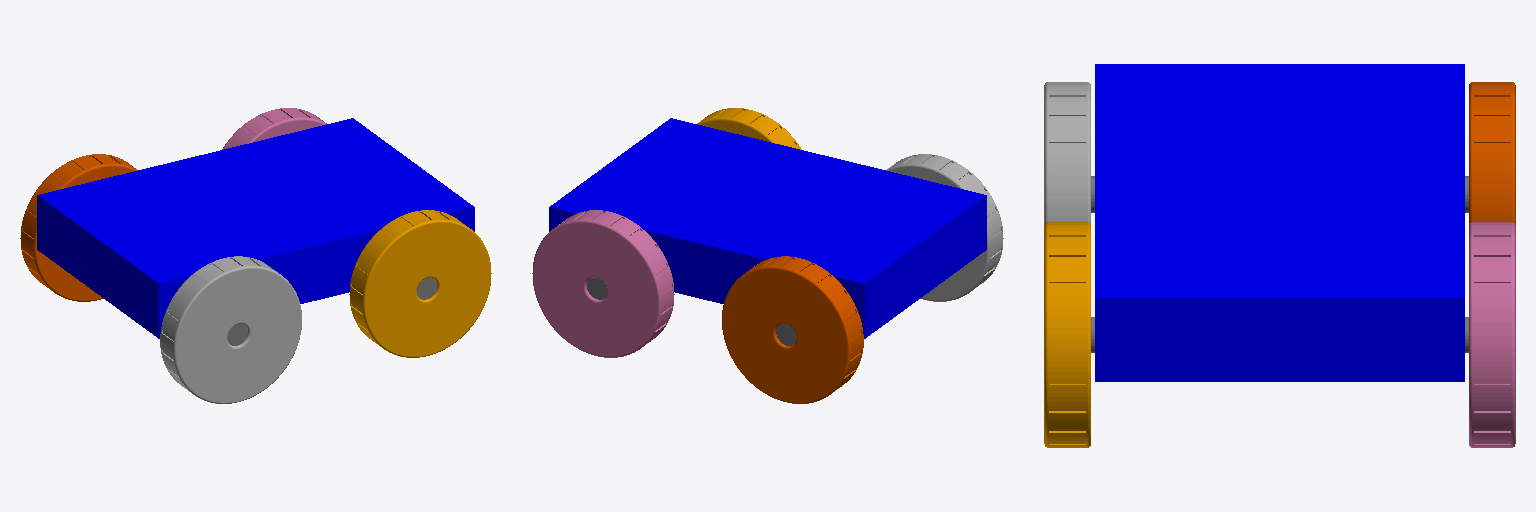
robot.urdf — farad_amr:
<?xml version="1.0"?>
<robot name="farad_amr">

<!-- Base link (chassis) -->
<link name="base_link">
<visual>
<geometry>
<box size="0.6 0.4 0.1"/>
</geometry>
<material name="blue">
<color rgba="0 0 1 1"/>
</material>
</visual>
<collision>
<geometry>
<box size="0.6 0.4 0.1"/>
</geometry>
</collision>
<inertial>
<mass value="10.0"/>
<inertia ixx="0.1" ixy="0.0" ixz="0.0" iyy="0.1" iyz="0.0" izz="0.1"/>
</inertial>
</link>




<!-- Left front shaft -->
<link name="left_front_shaft">
<visual>
<geometry>
<cylinder radius="0.02" length="0.10"/>
</geometry>
<origin xyz="0 0 0" rpy="1.5708 0 0"/>
<material name="gray">
<color rgba="0.5 0.5 0.5 1"/>
</material>
</visual>
<collision>
<geometry>
<cylinder radius="0.02" length="0.10"/>
</geometry>
<origin xyz="0 0 0" rpy="1.5708 0 0"/>
</collision>
<inertial>
<mass value="0.2"/>
<inertia ixx="0.01" ixy="0.0" ixz="0.0" iyy="0.01" iyz="0.0" izz="0.01"/>
</inertial>
</link>

<!-- Left rear shaft -->
<link name="left_rear_shaft">
<visual>
<geometry>
<cylinder radius="0.02" length="0.10"/>
</geometry>
<origin xyz="0 0 0" rpy="1.5708 0 0"/>
<material name="gray">
<color rgba="0.5 0.5 0.5 1"/>
</material>
</visual>
<collision>
<geometry>
<cylinder radius="0.02" length="0.10"/>
</geometry>
<origin xyz="0 0 0" rpy="1.5708 0 0"/>
</collision>
<inertial>
<mass value="0.2"/>
<inertia ixx="0.01" ixy="0.0" ixz="0.0" iyy="0.01" iyz="0.0" izz="0.01"/>
</inertial>
</link>

<!-- Right front shaft -->
<link name="right_front_shaft">
<visual>
<geometry>
<cylinder radius="0.02" length="0.10"/>
</geometry>
<origin xyz="0 0 0" rpy="1.5708 0 0"/>
<material name="gray">
<color rgba="0.5 0.5 0.5 1"/>
</material>
</visual>
<collision>
<geometry>
<cylinder radius="0.02" length="0.10"/>
</geometry>
<origin xyz="0 0 0" rpy="1.5708 0 0"/>
</collision>
<inertial>
<mass value="0.2"/>
<inertia ixx="0.01" ixy="0.0" ixz="0.0" iyy="0.01" iyz="0.0" izz="0.01"/>
</inertial>
</link>

<!-- Right rear shaft -->
<link name="right_rear_shaft">
<visual>
<geometry>
<cylinder radius="0.02" length="0.10"/>
</geometry>
<origin xyz="0 0 0" rpy="1.5708 0 0"/>
<material name="gray">
<color rgba="0.5 0.5 0.5 1"/>
</material>
</visual>
<collision>
<geometry>
<cylinder radius="0.02" length="0.10"/>
</geometry>
<origin xyz="0 0 0" rpy="1.5708 0 0"/>
</collision>
<inertial>
<mass value="0.2"/>
<inertia ixx="0.01" ixy="0.0" ixz="0.0" iyy="0.01" iyz="0.0" izz="0.01"/>
</inertial>
</link>



<!-- ================= TIRES (MESH) ================= -->

<!-- Left front tire (aligned with shaft, at +Y end) -->
<link name="left_front_tire">
	<inertial>
		<origin xyz="0 0 0"/>
		<mass value="1.0"/>
		<inertia ixx="0.02" iyy="0.02" izz="0.02" ixy="0" ixz="0" iyz="0"/>
	</inertial>
	<visual>
		<origin xyz="0 0.03 0" rpy="1.5708 0 0"/>
		<geometry>
			<mesh filename="tire_3.stl" scale="0.001 0.001 0.001"/>
		</geometry>
	</visual>
	<collision>
		<origin xyz="0 0.03 0" rpy="1.5708 0 0"/>
		<geometry>
			<mesh filename="tire_3.stl" scale="0.001 0.001 0.001"/>
		</geometry>
	</collision>
</link>

<!-- Left rear tire (aligned with shaft, at +Y end) -->
<link name="left_rear_tire">
	<inertial>
		<origin xyz="0 0 0"/>
		<mass value="1.0"/>
		<inertia ixx="0.02" iyy="0.02" izz="0.02" ixy="0" ixz="0" iyz="0"/>
	</inertial>
	<visual>
		<origin xyz="0 0.03 0" rpy="1.5708 0 0"/>
		<geometry>
			<mesh filename="tire_3.stl" scale="0.001 0.001 0.001"/>
		</geometry>
	</visual>
	<collision>
		<origin xyz="0 0.03 0" rpy="1.5708 0 0"/>
		<geometry>
			<mesh filename="tire_3.stl" scale="0.001 0.001 0.001"/>
		</geometry>
	</collision>
</link>

<!-- Right front tire (aligned with shaft, at +Y end) -->
<link name="right_front_tire">
	<inertial>
		<origin xyz="0 0 0"/>
		<mass value="1.0"/>
		<inertia ixx="0.02" iyy="0.02" izz="0.02" ixy="0" ixz="0" iyz="0"/>
	</inertial>
	<visual>
		<origin xyz="0 -0.03 0" rpy="1.5708 0 0"/>
		<geometry>
			<mesh filename="tire_3.stl" scale="0.001 0.001 0.001"/>
		</geometry>
	</visual>
	<collision>
		<origin xyz="0 -0.03 0" rpy="1.5708 0 0"/>
		<geometry>
			<mesh filename="tire_3.stl" scale="0.001 0.001 0.001"/>
		</geometry>
	</collision>
</link>

<!-- Right rear tire (aligned with shaft, at +Y end) -->
<link name="right_rear_tire">
	<inertial>
		<origin xyz="0 0 0"/>
		<mass value="1.0"/>
		<inertia ixx="0.02" iyy="0.02" izz="0.02" ixy="0" ixz="0" iyz="0"/>
	</inertial>
	<visual>
		<origin xyz="0 -0.03 0" rpy="1.5708 0 0"/>
		<geometry>
			<mesh filename="tire_3.stl" scale="0.001 0.001 0.001"/>
		</geometry>
	</visual>
	<collision>
		<origin xyz="0 -0.03 0" rpy="1.5708 0 0"/>
		<geometry>
			<mesh filename="tire_3.stl" scale="0.001 0.001 0.001"/>
		</geometry>
	</collision>
</link>



<!-- ================= SHAFTS AND TIRES ASSEMBLY ================= -->

<!-- Left front shaft (front left corner) -->
<joint name="base_link_to_left_front_shaft" type="fixed">
	<parent link="base_link"/>
	<child link="left_front_shaft"/>
	<origin xyz="-0.18 0.2 -0.05" rpy="0 0 0"/>
</joint>

<!-- Attach left front tire to shaft with continuous joint (rotates freely) -->
<joint name="left_front_shaft_to_tire" type="continuous">
	<parent link="left_front_shaft"/>
	<child link="left_front_tire"/>
	<!-- Tire is placed at end of shaft, so no offset needed -->
	<origin xyz="0 0 0" rpy="0 0 0"/>
	<axis xyz="0 1 0"/>
</joint>

<!-- Left rear shaft (rear left corner) -->
<joint name="base_link_to_left_rear_shaft" type="fixed">
	<parent link="base_link"/>
	<child link="left_rear_shaft"/>
	<origin xyz="0.18 0.2 -0.05" rpy="0 0 0"/>
</joint>

<!-- Attach left rear tire to shaft with continuous joint -->
<joint name="left_rear_shaft_to_tire" type="continuous">
	<parent link="left_rear_shaft"/>
	<child link="left_rear_tire"/>
	<origin xyz="0 0 0" rpy="0 0 0"/>
	<axis xyz="0 1 0"/>
</joint>

<!-- Right front shaft (front right corner) -->
<joint name="base_link_to_right_front_shaft" type="fixed">
	<parent link="base_link"/>
	<child link="right_front_shaft"/>
	<origin xyz="-0.18 -0.2 -0.05" rpy="0 0 0"/>
</joint>

<!-- Attach right front tire to shaft with continuous joint -->
<joint name="right_front_shaft_to_tire" type="continuous">
	<parent link="right_front_shaft"/>
	<child link="right_front_tire"/>
	<origin xyz="0 0 0" rpy="0 0 0"/>
	<axis xyz="0 1 0"/>
</joint>

<!-- Right rear shaft (rear right corner) -->
<joint name="base_link_to_right_rear_shaft" type="fixed">
	<parent link="base_link"/>
	<child link="right_rear_shaft"/>
	<origin xyz="0.18 -0.2 -0.05" rpy="0 0 0"/>
</joint>

<!-- Attach right rear tire to shaft with continuous joint -->
<joint name="right_rear_shaft_to_tire" type="continuous">
	<parent link="right_rear_shaft"/>
	<child link="right_rear_tire"/>
	<origin xyz="0 0 0" rpy="0 0 0"/>
	<axis xyz="0 1 0"/>
</joint>

</robot>

--- Facts derived from the render (not from the file) ---
3 views of the same robot in one strip: view 1: azimuth 30°, elevation 25°; view 2: azimuth 150°, elevation 25°; view 3: azimuth 270°, elevation 25° (orthographic).
Robot: farad_amr — 9 links, 8 joints (4 continuous, 4 fixed); root link base_link; default pose: all joints at 0.
Visible links, largest first — view 1: base_link, right_front_tire, right_rear_tire, left_front_tire, left_rear_tire; view 2: base_link, left_front_tire, left_rear_tire, right_front_tire, right_rear_tire; view 3: base_link, left_rear_tire, right_rear_tire, left_front_tire, right_front_tire.
Link boxes in pixels (bbox=[...]): base_link: bbox=[37, 118, 474, 338]; right_front_tire: bbox=[160, 256, 301, 403]; right_rear_tire: bbox=[349, 210, 491, 357]; left_front_tire: bbox=[20, 154, 137, 301]; left_rear_tire: bbox=[222, 108, 326, 149]; base_link: bbox=[549, 118, 986, 338]; left_front_tire: bbox=[722, 256, 863, 403]; left_rear_tire: bbox=[532, 210, 674, 357]; right_front_tire: bbox=[886, 154, 1003, 301]; right_rear_tire: bbox=[697, 108, 801, 149]; base_link: bbox=[1095, 64, 1464, 381]; left_rear_tire: bbox=[1469, 222, 1515, 447]; right_rear_tire: bbox=[1044, 222, 1090, 447]; left_front_tire: bbox=[1469, 82, 1515, 225]; right_front_tire: bbox=[1044, 82, 1090, 225].
Bounding box of the posed robot: 0.6043 × 0.5105 × 0.2442 m (x, y, z).
Meshes: 1 distinct files referenced, 4 mesh visuals loaded (1 binary STL).
